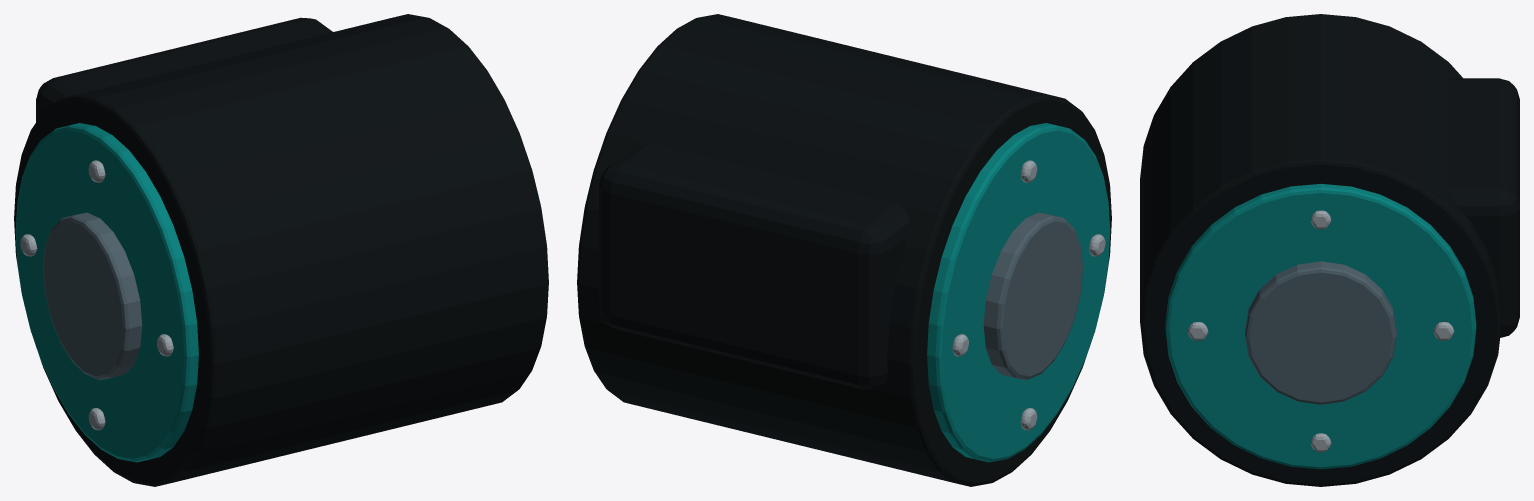
File: modular_leg_motor.obj
3 renders of one model, left to right at view 1: azimuth 30°, elevation 25°; view 2: azimuth 150°, elevation 25°; view 3: azimuth 270°, elevation 25°, orthographic. The views are drawn at different scales.
Visible parts, largest first — view 1: modular_leg_motor; view 2: modular_leg_motor; view 3: modular_leg_motor.
Boxes of the visible parts, x1=… form: modular_leg_motor: x1=14, y1=14, x2=548, y2=486; modular_leg_motor: x1=577, y1=14, x2=1111, y2=486; modular_leg_motor: x1=1140, y1=14, x2=1519, y2=486.
Size of the model in its own units: 0.0798 by 0.07 by 0.0735.
